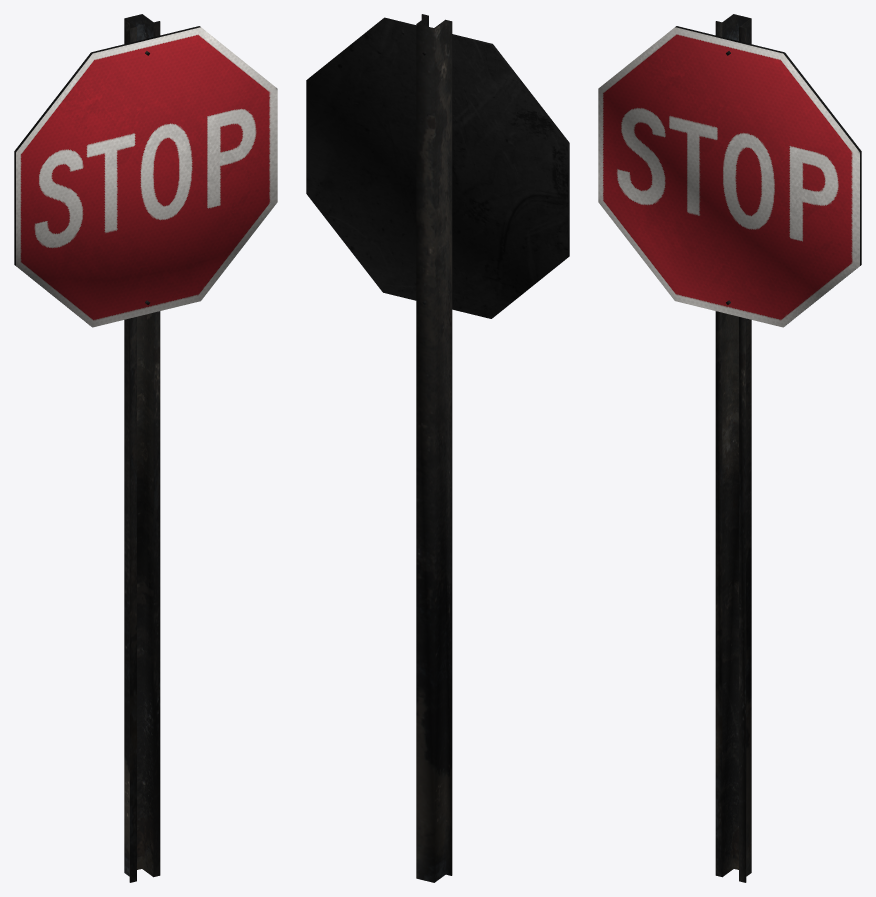
File: stop-sign-ts.obj
3 renders of one model, left to right at view 1: azimuth 30°, elevation 25°; view 2: azimuth 150°, elevation 25°; view 3: azimuth 330°, elevation 25°, orthographic.
Visible parts, largest first — view 1: stop-sign-low; view 2: stop-sign-low; view 3: stop-sign-low.
Part boxes in pixels (x1=…): stop-sign-low: x1=14, y1=14, x2=277, y2=882; stop-sign-low: x1=306, y1=14, x2=569, y2=882; stop-sign-low: x1=598, y1=14, x2=861, y2=882.
Bounding box in the file's own units: 0.6575 × 2.05 × 0.0703.
Materials: 1 (1 with a texture image).
